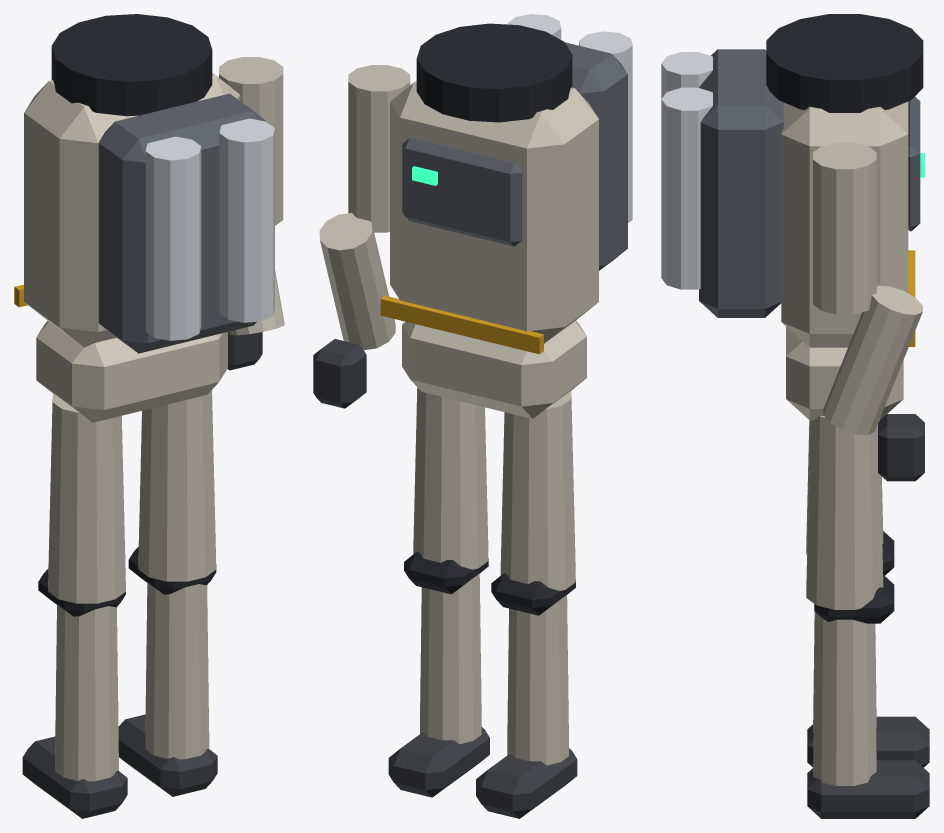
File: body.glb
3 views of the same model, side by side, from view 1: azimuth 30°, elevation 25°; view 2: azimuth 150°, elevation 25°; view 3: azimuth 270°, elevation 25° (orthographic). The views are drawn at different scales.
Visible parts, largest first — view 1: body; view 2: body; view 3: body.
Part boxes in pixels (x1,y1,x2,y2): body: [14, 14, 284, 818]; body: [313, 14, 632, 818]; body: [661, 14, 929, 818].
Bounding box in the file's own units: 0.59 × 1.74 × 0.57.
